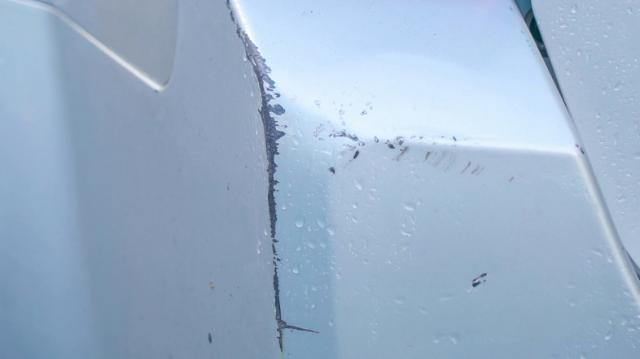Bumper: (211, 0, 457, 359)
